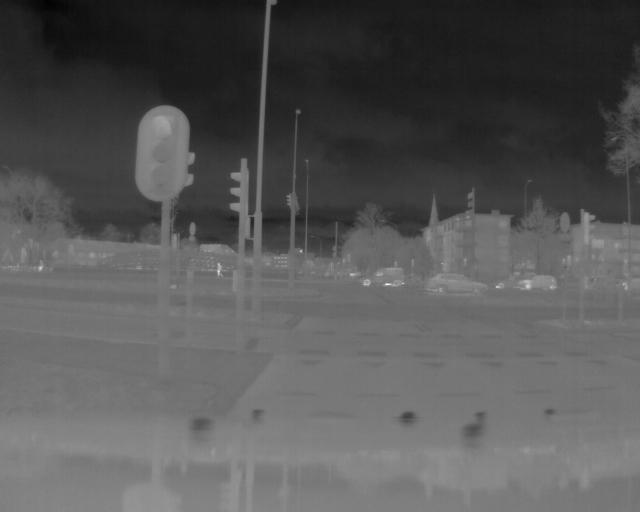car: (424, 269, 493, 302), (360, 267, 408, 290), (515, 274, 562, 291)
person: (212, 258, 226, 281)
